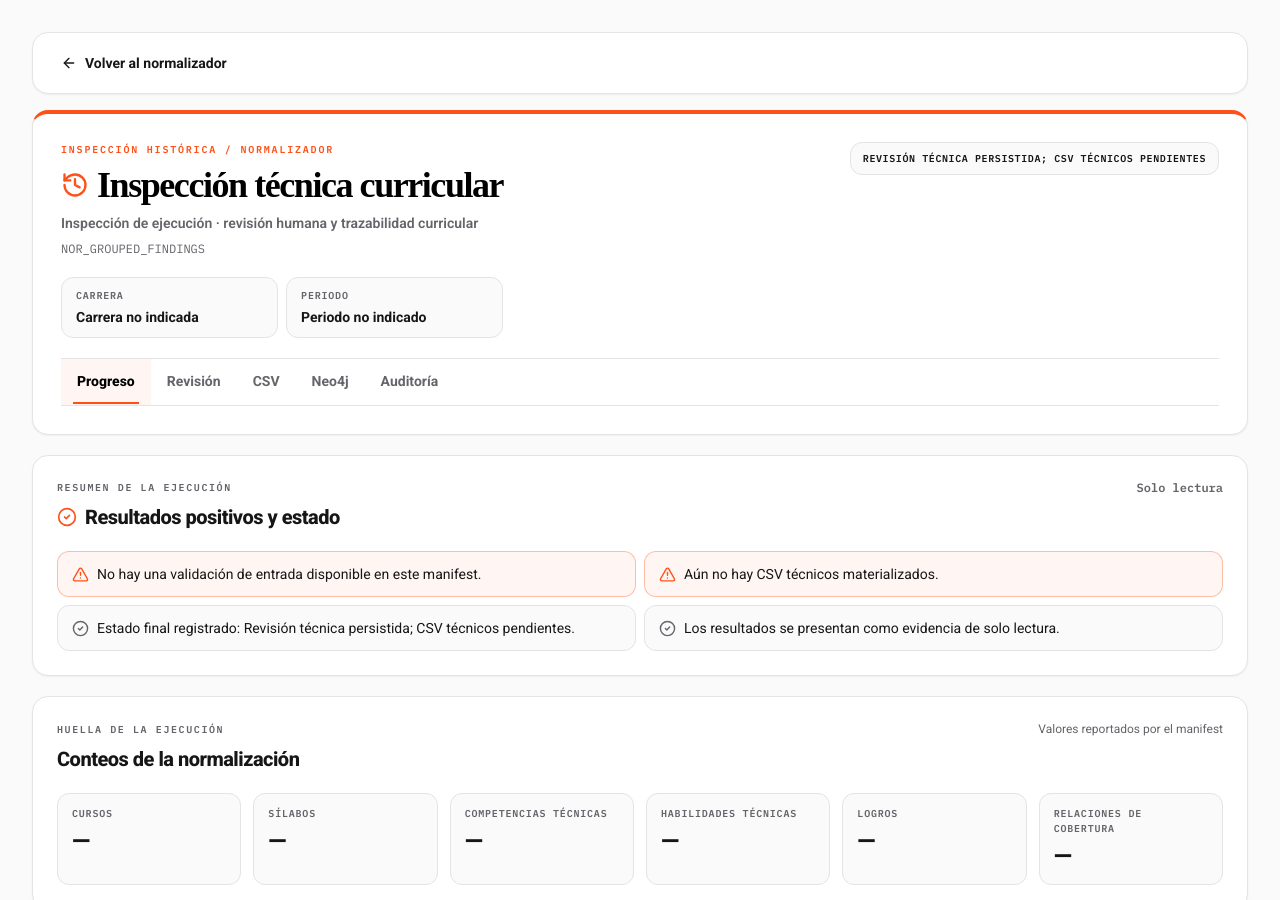
Test: inspección de ejecución normalizada › agrupa hallazgos accionables desde el payload y no duplica la extracción cactus incompleta
The image size is (1280, 900).
Click the tab "Auditoría": (409, 382) x1=365 y1=359 x2=454 y2=405
(page scrolled)
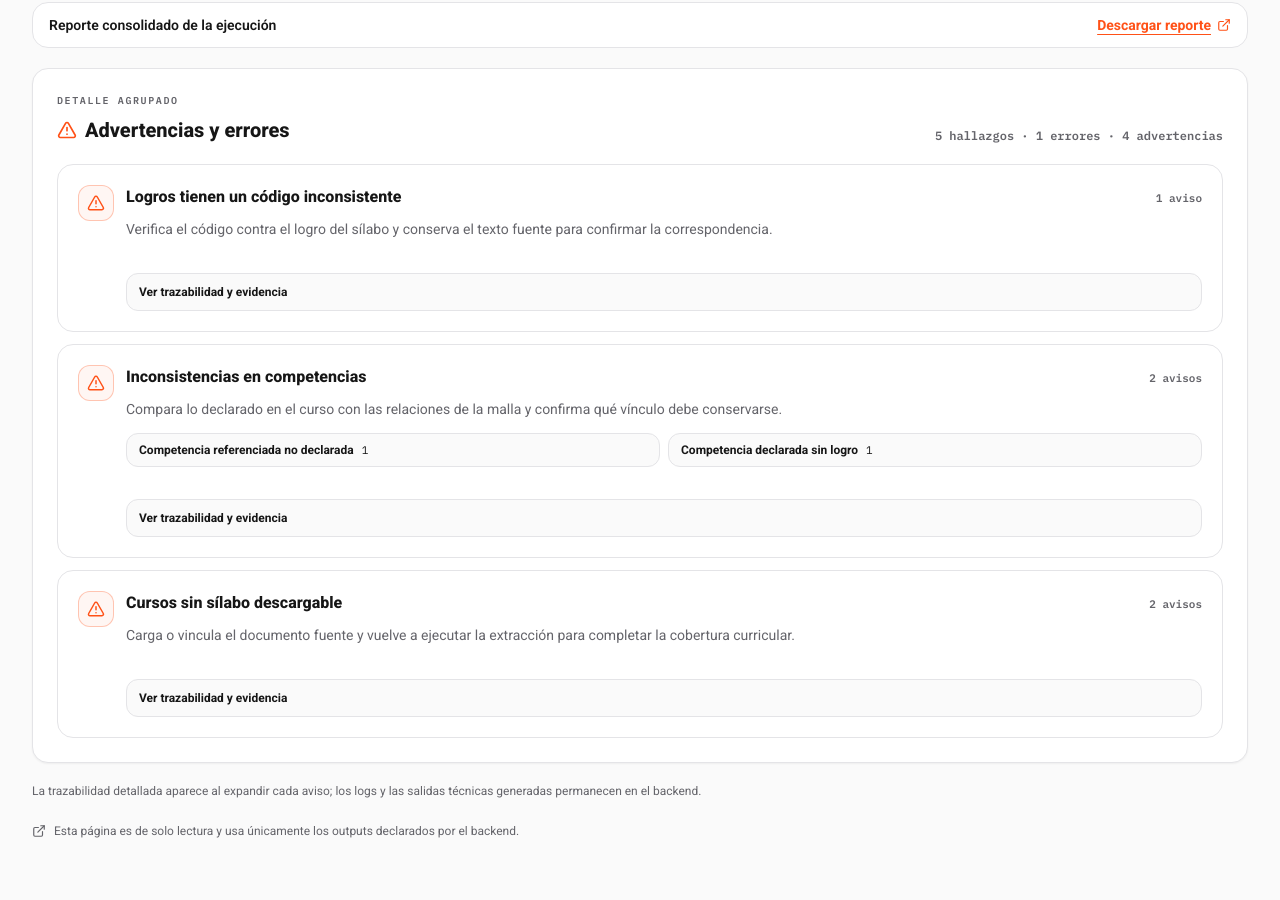
expect the text "1 aviso" is shown: met, box x1=1156 y1=190 x2=1202 y2=206
expect the text "2 avisos" in the row of "Inconsistencias en competencias" is shown: met, box x1=1149 y1=370 x2=1202 y2=386
expect the text "2 avisos" in the row of "Cursos sin sílabo descargable" is shown: met, box x1=1149 y1=596 x2=1202 y2=612
